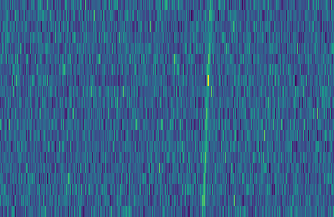signal: (199, 0, 216, 217)
